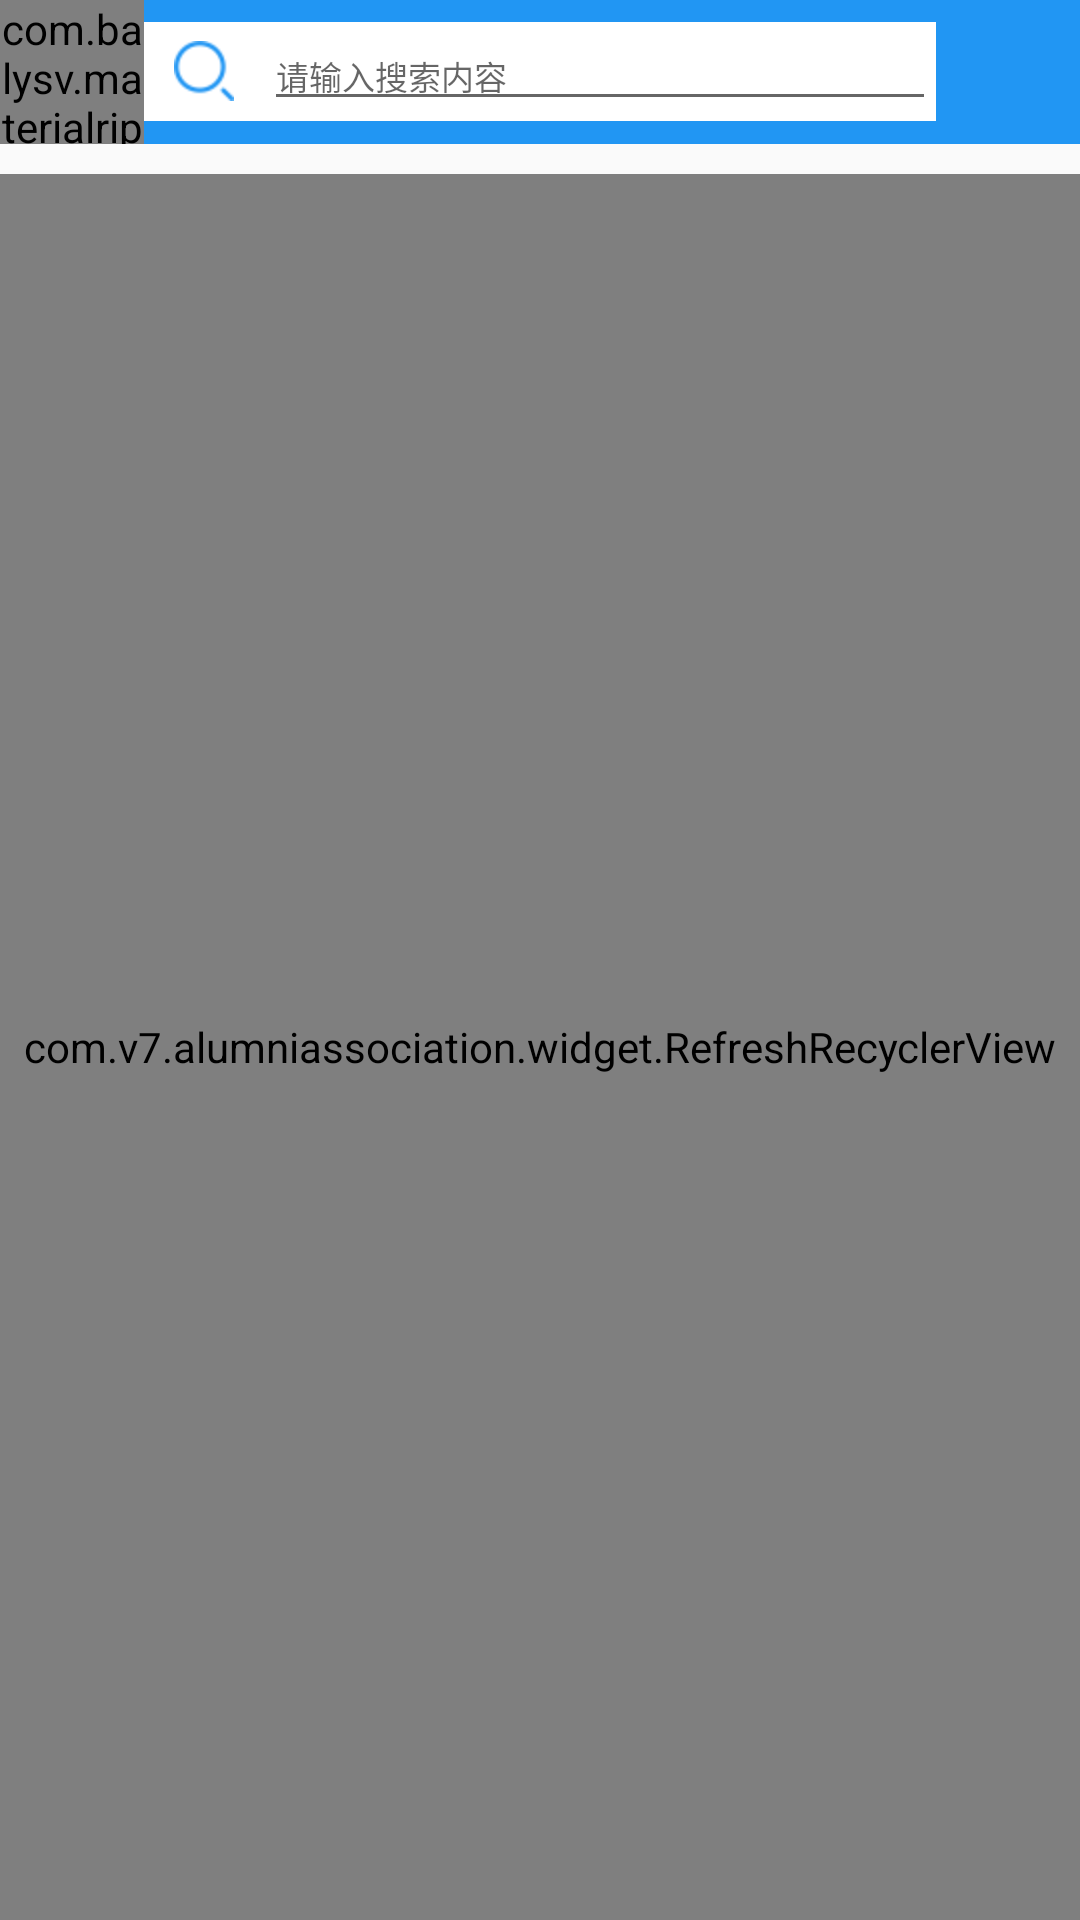

Icon bounding boxes for this 1080px×1920px phone screenshot, format Rect(x1, y1, x2, y2):
search: Rect(174, 41, 234, 101)
